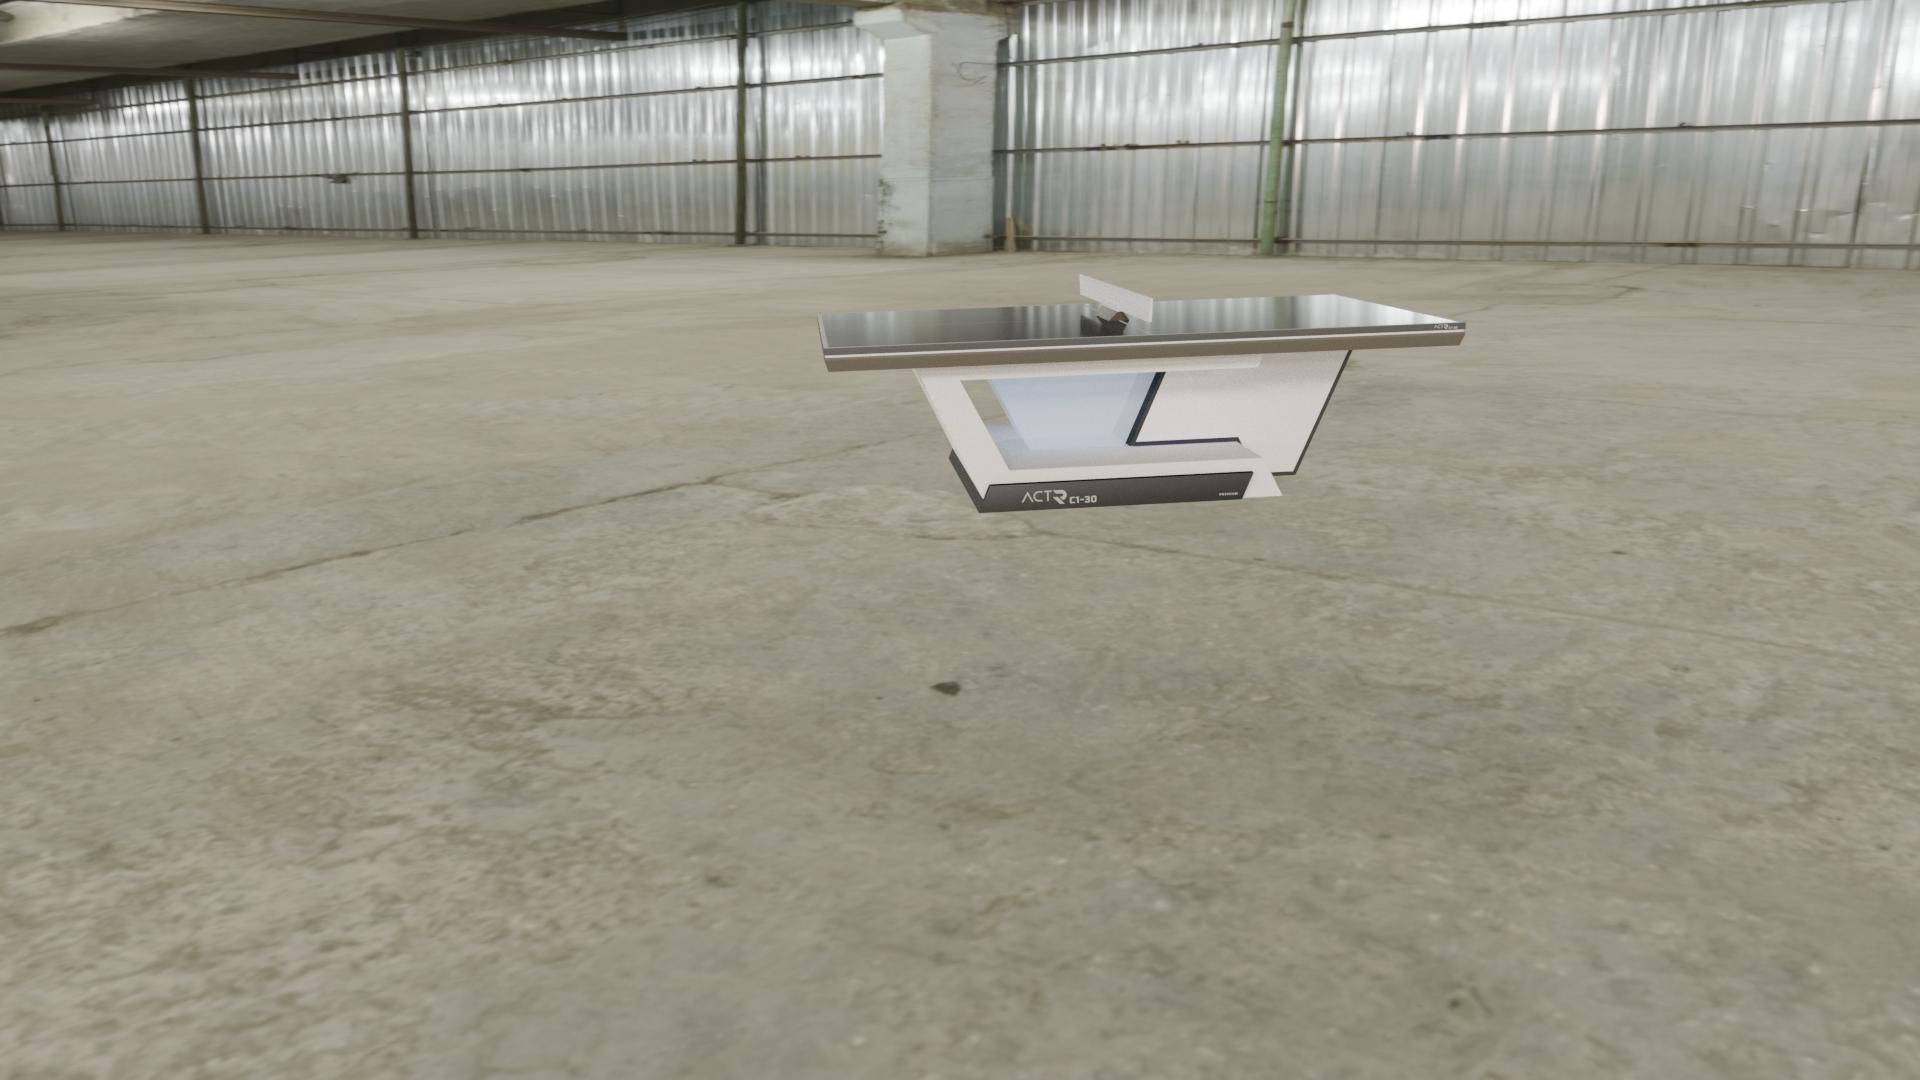table: (822, 294, 1460, 348)
